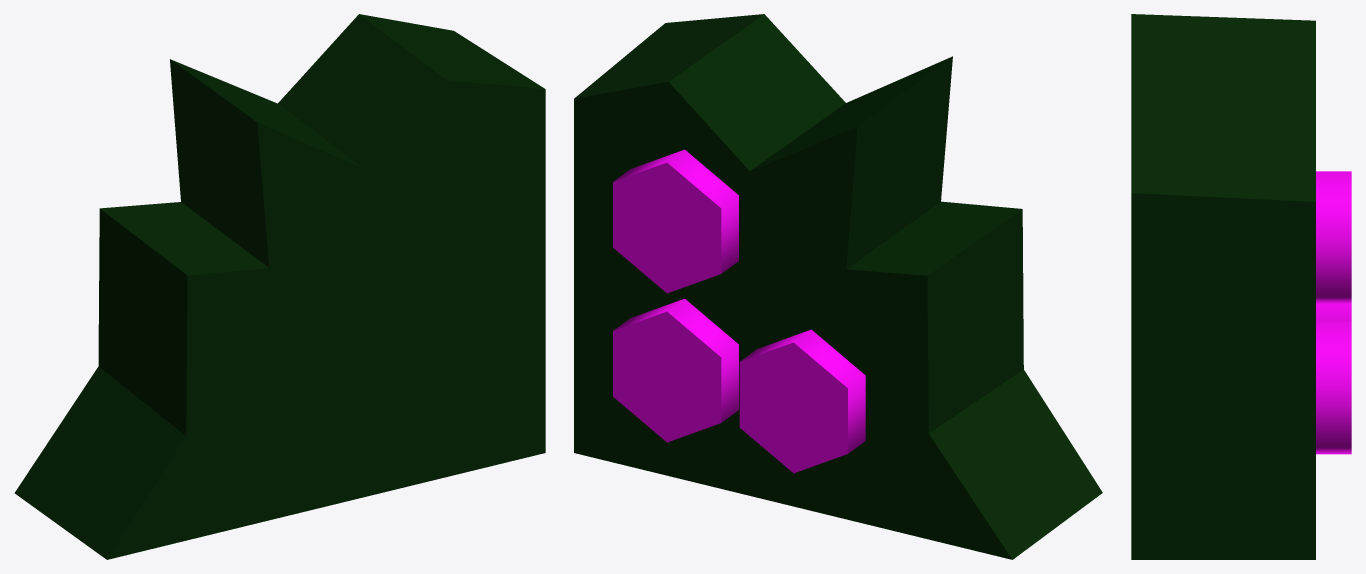
Rendered from Collectible_Piece_B.FBX.
3 views of the same model, side by side, from view 1: azimuth 30°, elevation 25°; view 2: azimuth 150°, elevation 25°; view 3: azimuth 270°, elevation 25° (orthographic).
Visible parts, largest first — view 1: Piece_B; view 2: Piece_B; view 3: Piece_B.
Boxes of the visible parts, x1=… form: Piece_B: x1=14, y1=14, x2=545, y2=559; Piece_B: x1=574, y1=14, x2=1102, y2=559; Piece_B: x1=1131, y1=14, x2=1351, y2=559.
Size of the model in its own units: 27.71 by 24.15 by 11.94.
